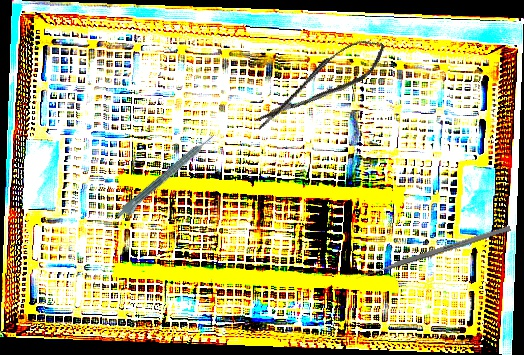Handpiece: (115, 132, 219, 224)
Micro Scissor: (245, 30, 394, 137)
Pusher: (355, 225, 511, 281)
